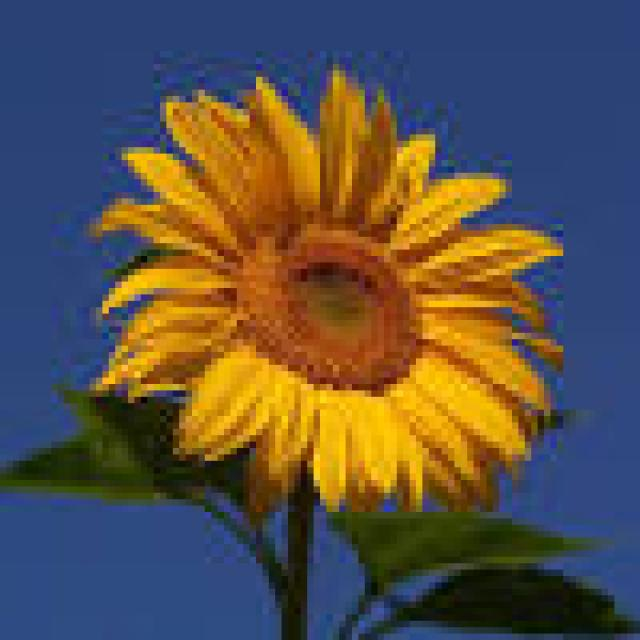sunflower: (83, 61, 576, 528)
